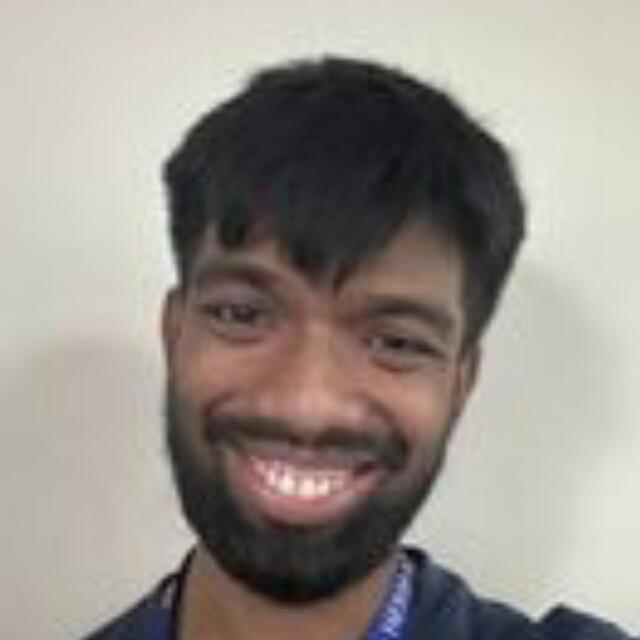Happy: (112, 150, 540, 591)
